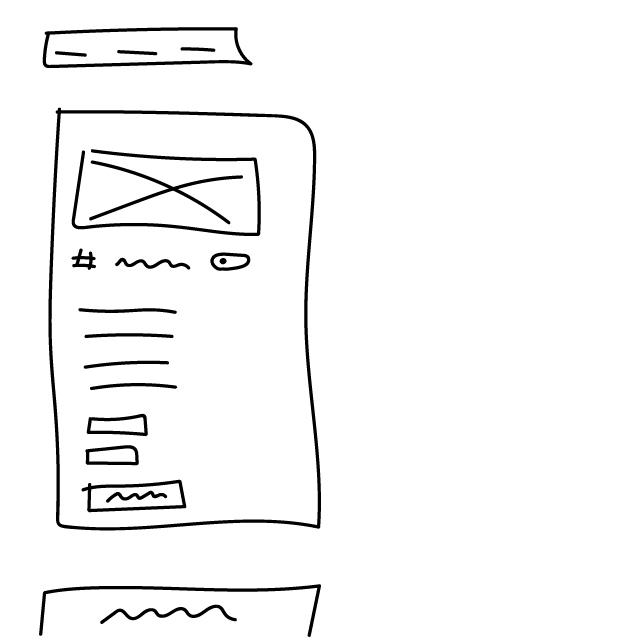button: (81, 473, 191, 519)
checkbox: (209, 253, 254, 274)
container: (41, 104, 336, 536)
footer: (27, 576, 325, 640)
frame: (69, 145, 265, 243)
heading: (67, 247, 197, 280)
input: (83, 416, 156, 440), (84, 444, 145, 470)
nav: (39, 26, 257, 74)
text: (73, 297, 186, 400)
